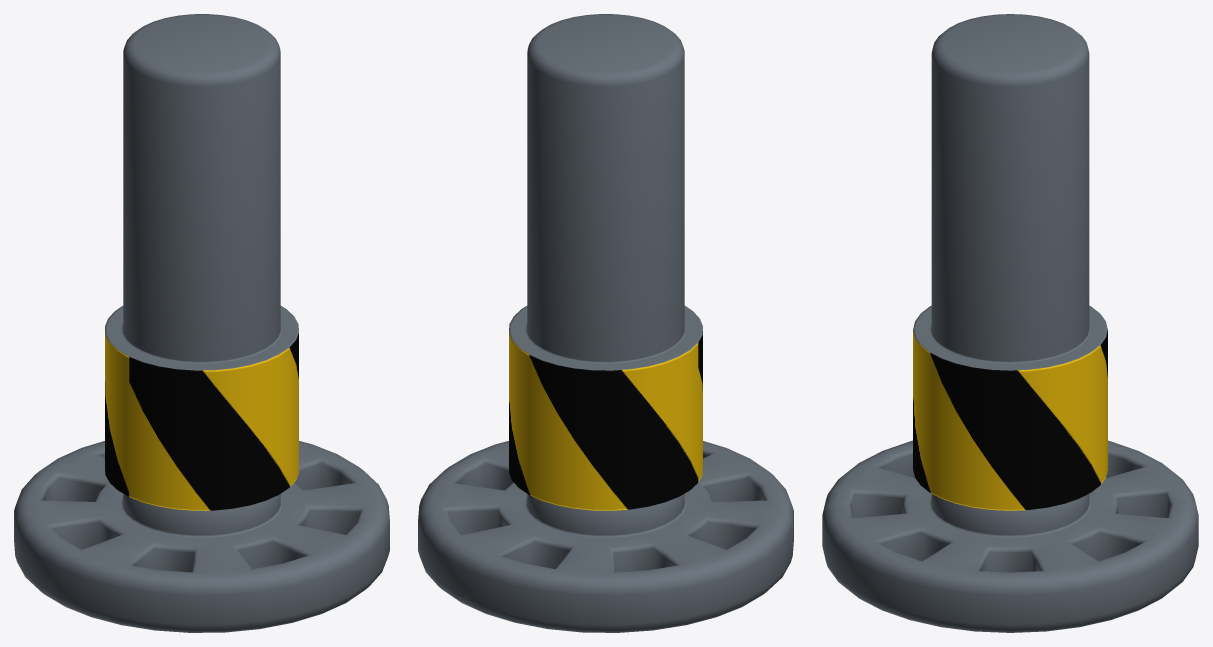
File: PressNo2.fbx
3 renders of one model, left to right at view 1: azimuth 30°, elevation 25°; view 2: azimuth 150°, elevation 25°; view 3: azimuth 270°, elevation 25°, orthographic.
Parts seen in each view (by area): view 1: Cylinder.002, Hole Head; view 2: Cylinder.002, Hole Head; view 3: Cylinder.002, Hole Head.
Boxes of the visible parts, box(x1,y1,x2,y2) form: Cylinder.002: box(105, 14, 298, 510); Hole Head: box(14, 441, 389, 632); Cylinder.002: box(509, 14, 702, 510); Hole Head: box(418, 441, 793, 632); Cylinder.002: box(913, 14, 1107, 510); Hole Head: box(822, 440, 1198, 632).
Bounding box in the file's own units: 242 × 365 × 242.
Materials: 2 (1 with a texture image).
